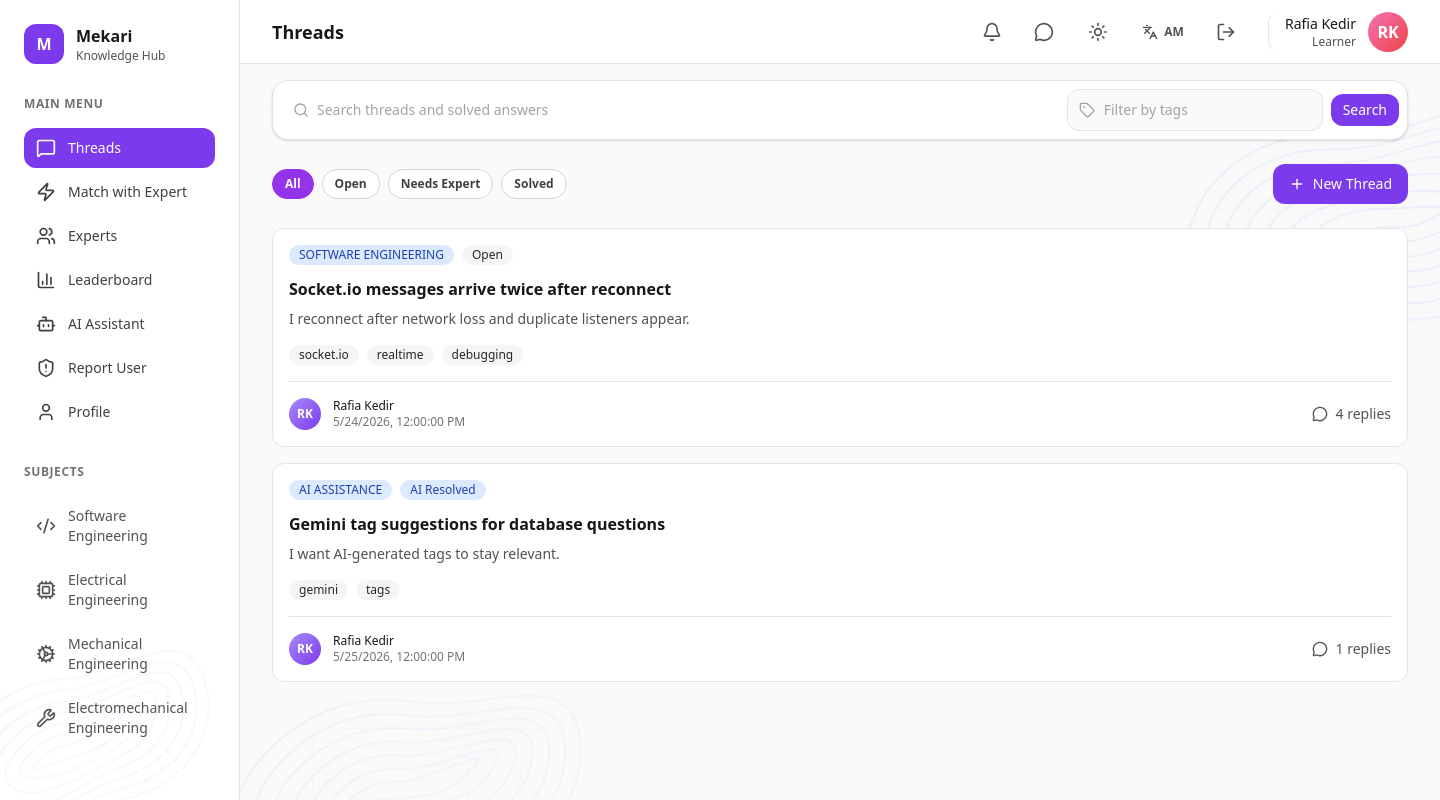
Test: Authenticated learner dashboard › loads protected threads and filters by status
This screenshot has width=1440, height=800.
Expected: the link "Threads" is shown, [24,128,215,168]
Expected: the link "Socket.io messages arrive twice after reconnect" is shown, [289,278,671,300]
Click the button "Open" at (351, 184), box [322,169,380,199]
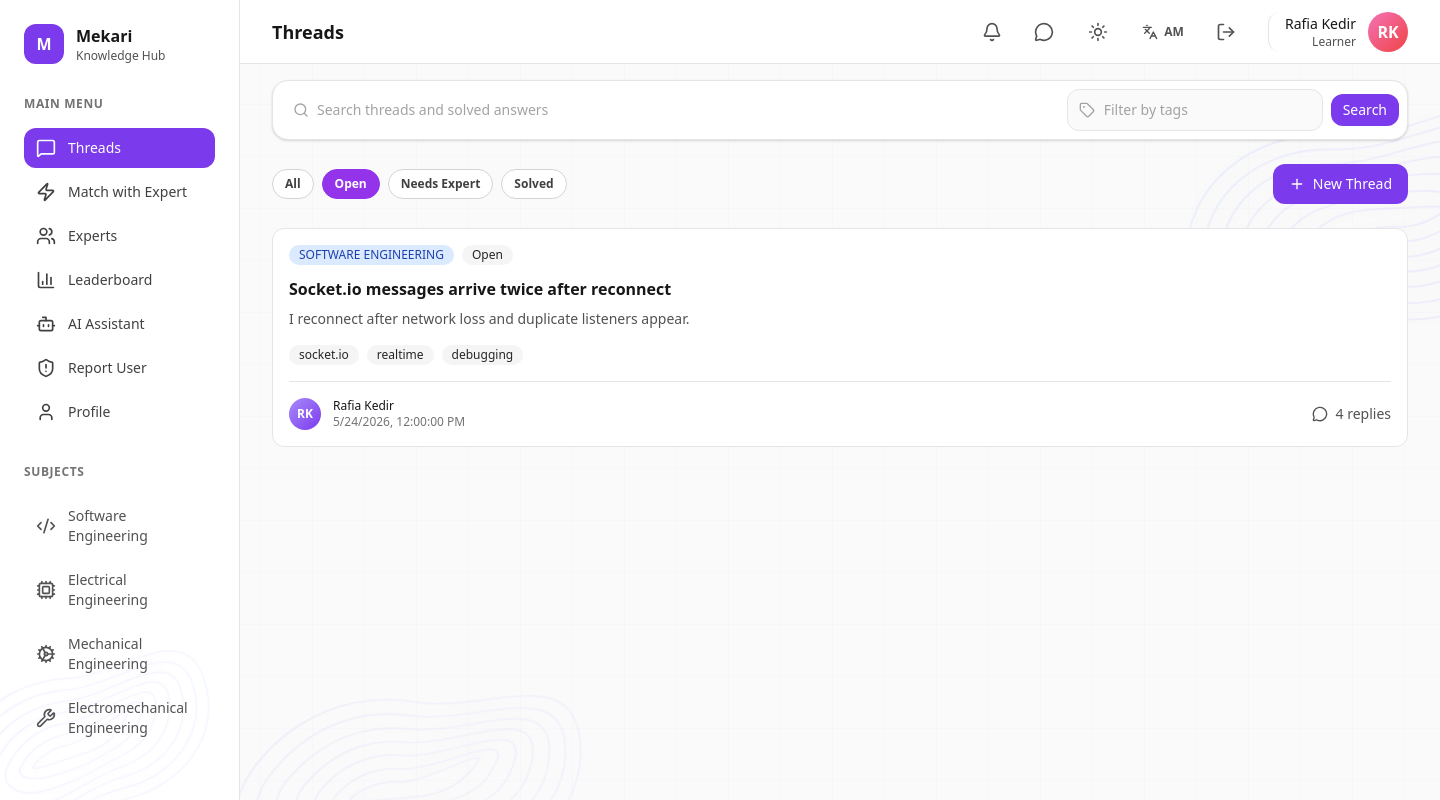
Expected: the link "Socket.io messages arrive twice after reconnect" is shown, [289,278,671,300]
Now the link "Gemini tag suggestions for database questions" is gone
